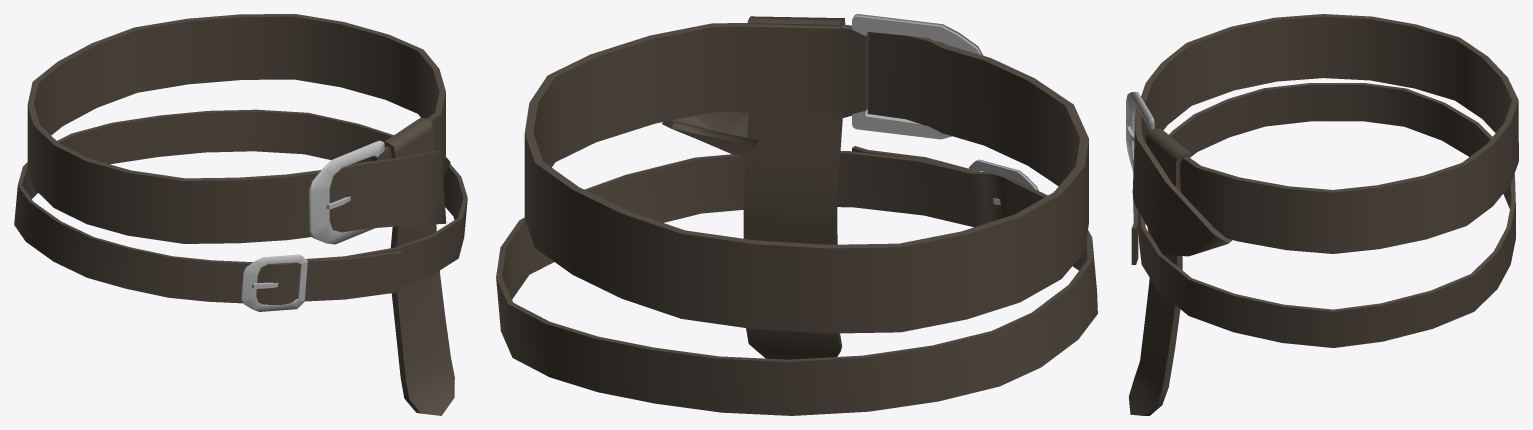
File: highlander-belt.fbx
3 renders of one model, left to right at view 1: azimuth 30°, elevation 25°; view 2: azimuth 150°, elevation 25°; view 3: azimuth 270°, elevation 25°, orthographic. The views are drawn at different scales.
Parts seen in each view (by area): view 1: beltA_geo, beltB_geo; view 2: beltA_geo, beltB_geo; view 3: beltA_geo, beltB_geo.
Part boxes in pixels (x1,y1,x2,y2): beltA_geo: (27, 14, 454, 415); beltB_geo: (14, 109, 467, 311); beltA_geo: (524, 14, 1088, 359); beltB_geo: (496, 146, 1097, 415); beltA_geo: (1126, 14, 1518, 415); beltB_geo: (1131, 83, 1515, 347).
Size of the model in its own units: 34.68 by 23.07 by 30.06.
